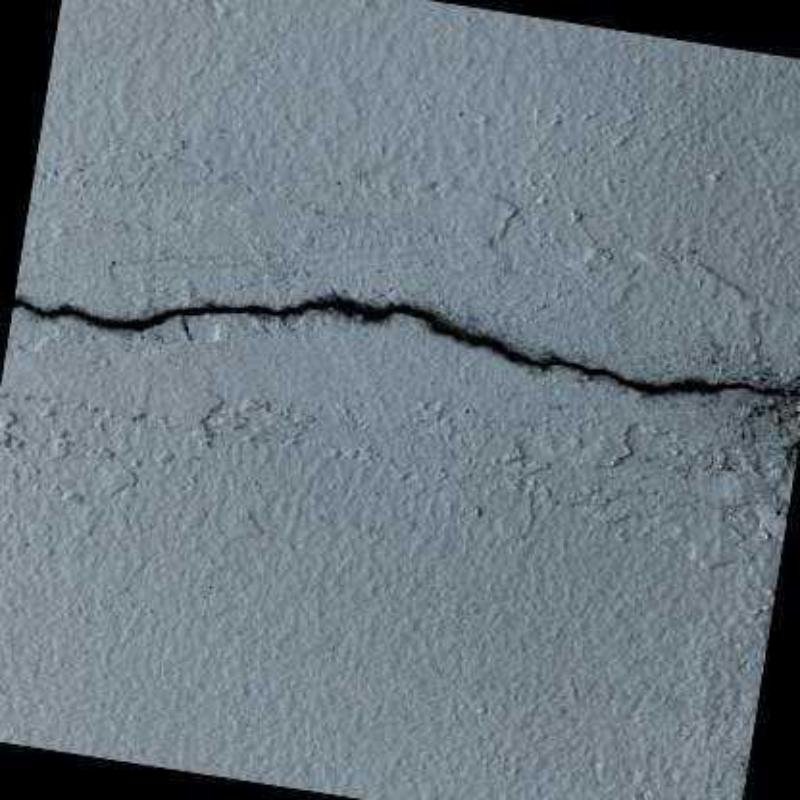pothole: (10, 299, 794, 397)
